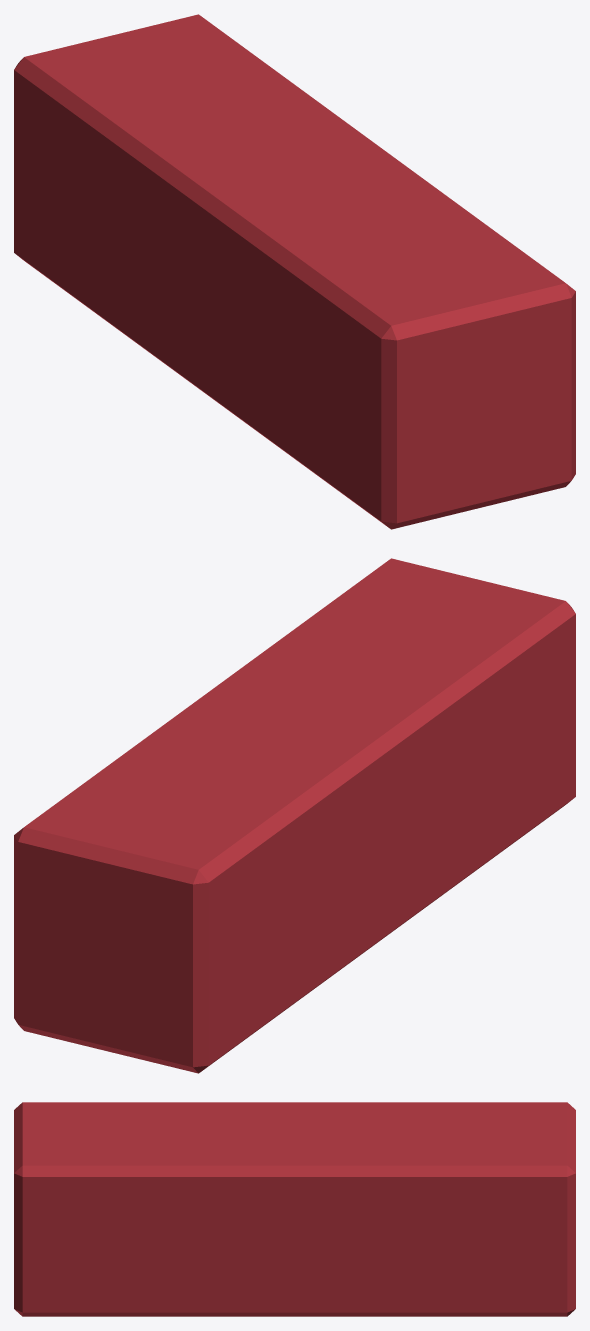
Rendered from Top_Block.fbx.
3 views of the same model, one above another, from view 1: azimuth 30°, elevation 25°; view 2: azimuth 150°, elevation 25°; view 3: azimuth 270°, elevation 25° (orthographic). The views are drawn at different scales.
Visible parts, largest first — view 1: Cube.003; view 2: Cube.003; view 3: Cube.003.
Part boxes in pixels (<box>): Cube.003: <box>14,14,575,529</box>; Cube.003: <box>14,558,575,1073</box>; Cube.003: <box>14,1102,575,1316</box>.
Bounding box in the file's own units: 737 × 737 × 2484.
